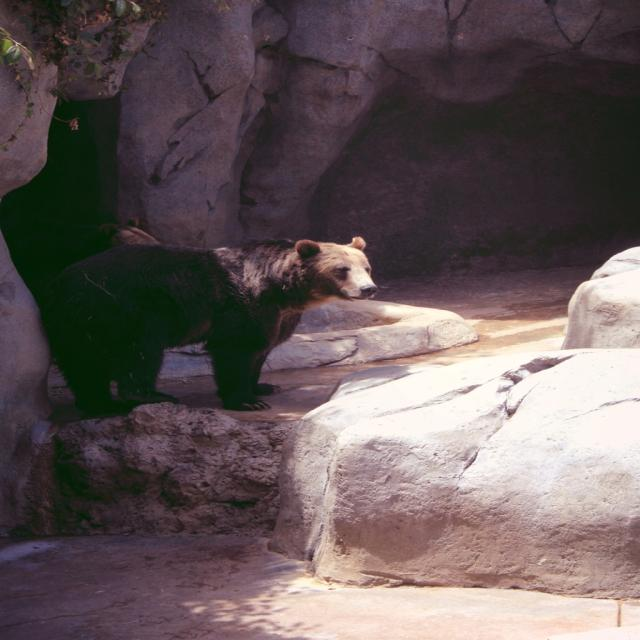Cheetahs: (34, 233, 382, 424)
